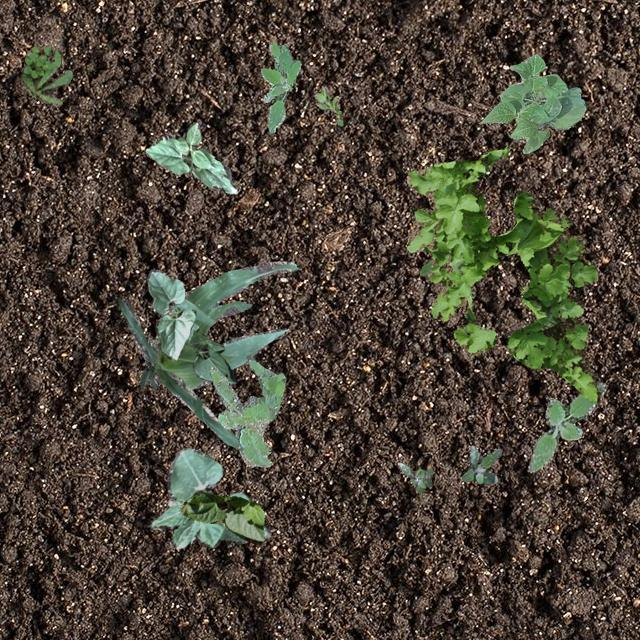crop: (116, 261, 298, 448), (146, 447, 270, 548), (480, 54, 586, 152), (144, 121, 236, 192), (180, 492, 264, 544), (146, 268, 194, 358), (183, 320, 234, 384), (419, 260, 431, 274)
weed: (406, 148, 600, 402), (208, 354, 284, 466), (528, 382, 604, 472), (260, 42, 300, 132), (20, 44, 72, 106), (460, 444, 500, 482), (314, 86, 342, 124), (398, 462, 432, 492)
